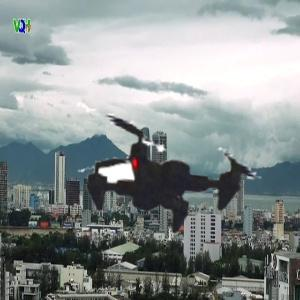drone: (43, 43, 294, 294)
